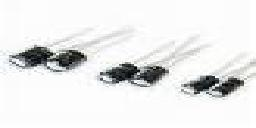Electrolytic-Capacitor: (7, 27, 97, 76), (100, 62, 133, 82)
